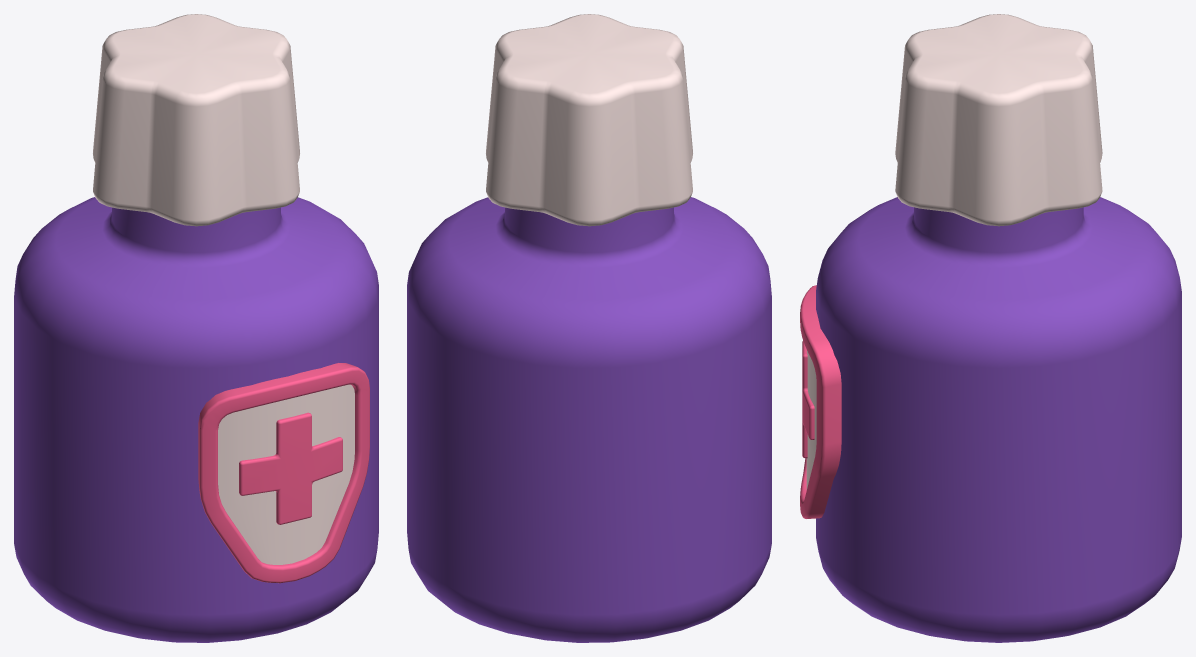
Rendered from Public_20_Mouthwash_2.glb.
The picture shows the model from 3 angles, left to right: view 1: azimuth 30°, elevation 25°; view 2: azimuth 150°, elevation 25°; view 3: azimuth 270°, elevation 25°; orthographic projection.
Parts seen in each view (by area): view 1: Public_20_Mouthwash_2; view 2: Public_20_Mouthwash_2; view 3: Public_20_Mouthwash_2.
Part boxes in pixels (x1=…): Public_20_Mouthwash_2: x1=14, y1=14, x2=378, y2=642; Public_20_Mouthwash_2: x1=407, y1=14, x2=771, y2=642; Public_20_Mouthwash_2: x1=800, y1=14, x2=1181, y2=642.
Size of the model in its own units: 1.93 by 3.07 by 2.01.
Materials: 1 (1 with a texture image).
